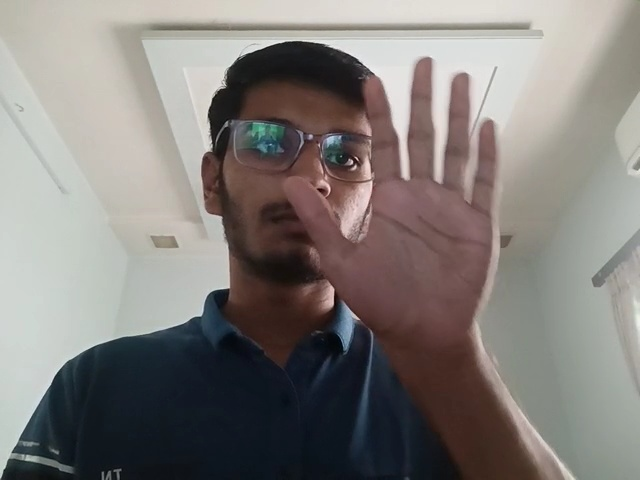Hello: (280, 51, 519, 349)
